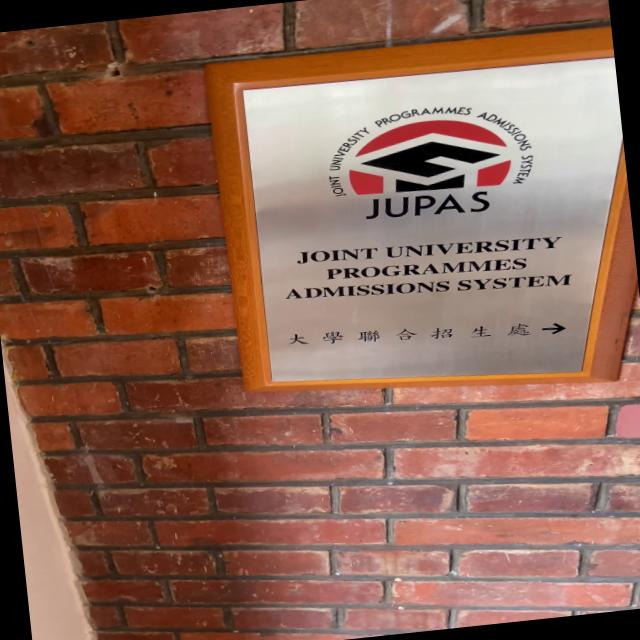jupasOffice: (186, 13, 640, 435)
